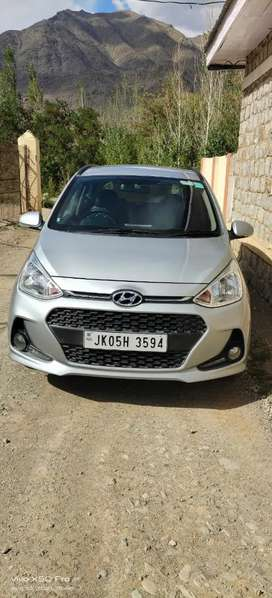JK05H3594: (83, 330, 167, 352)
